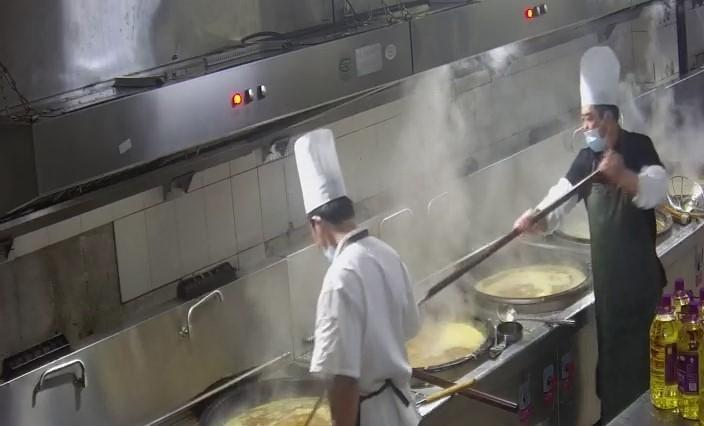mask: (572, 114, 602, 144)
